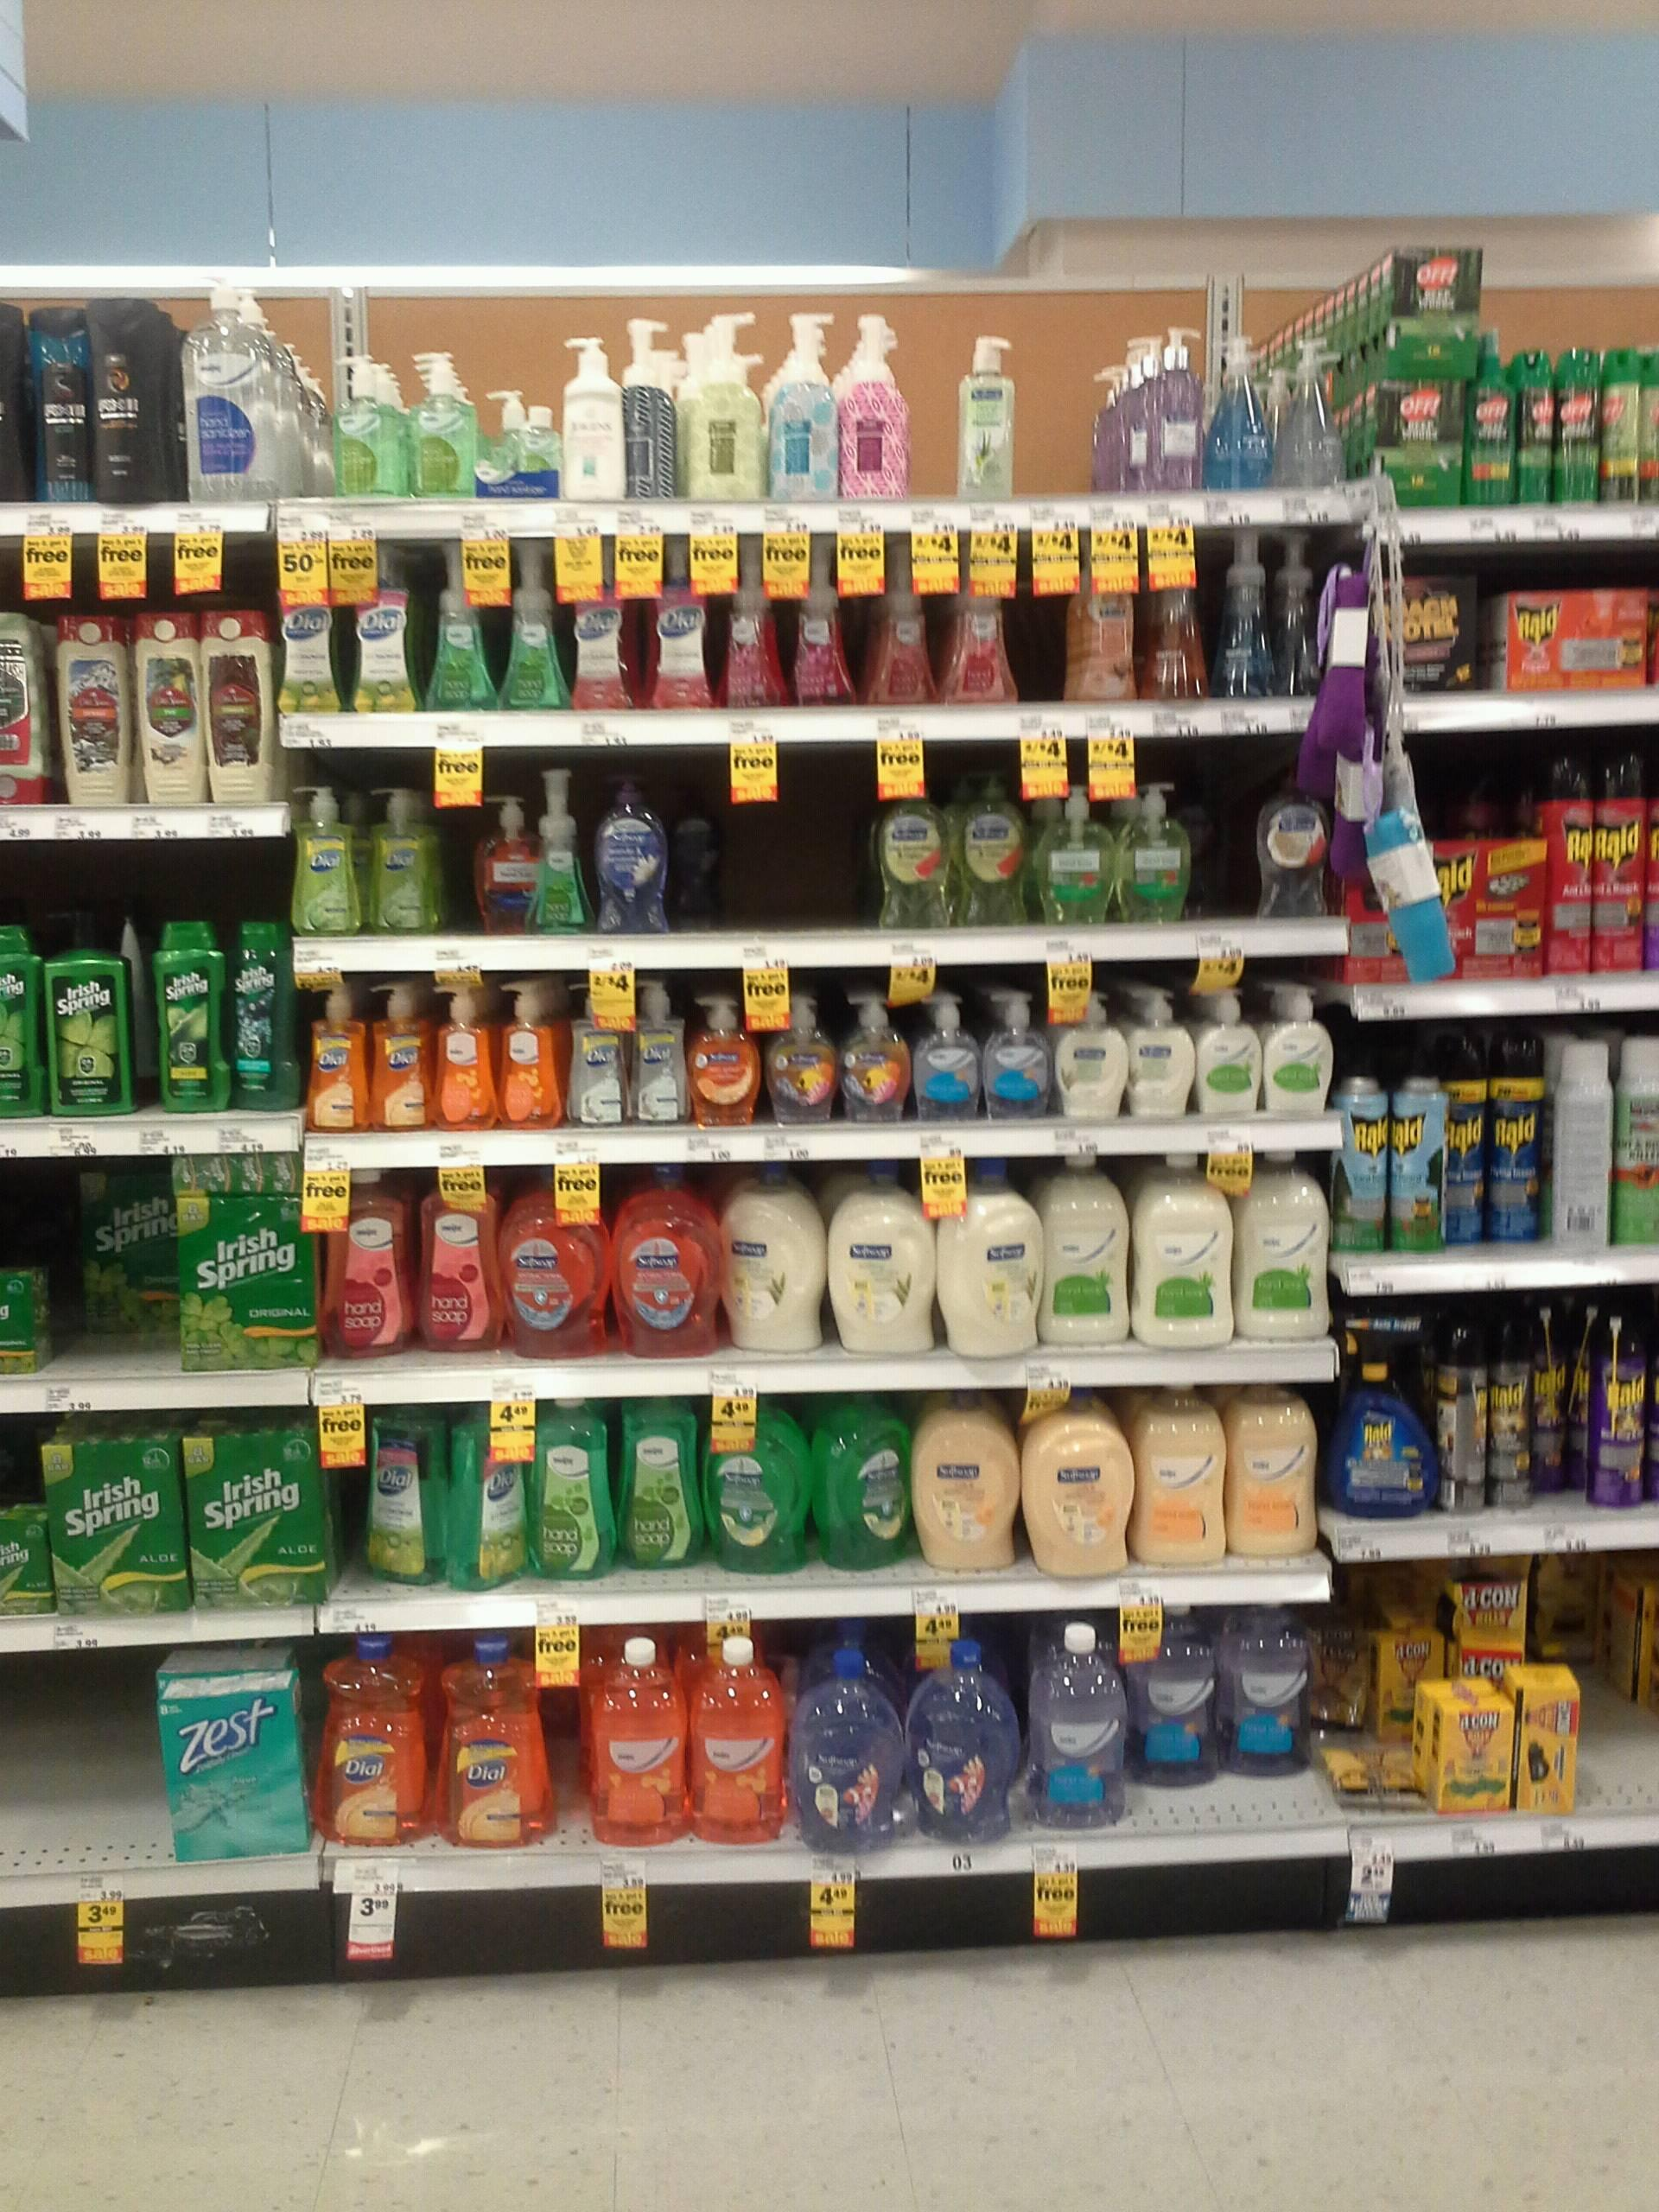empty: (0, 1663, 157, 1864), (26, 1174, 166, 1367), (1568, 1608, 1657, 1817), (1185, 777, 1263, 918), (782, 784, 863, 921), (695, 787, 762, 927)
